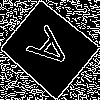A: (24, 24, 82, 81)
